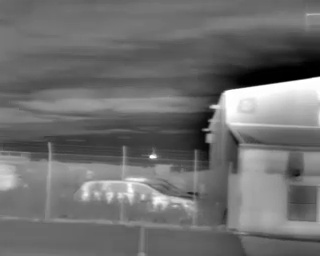HELICOPTER: (144, 150, 161, 163)
